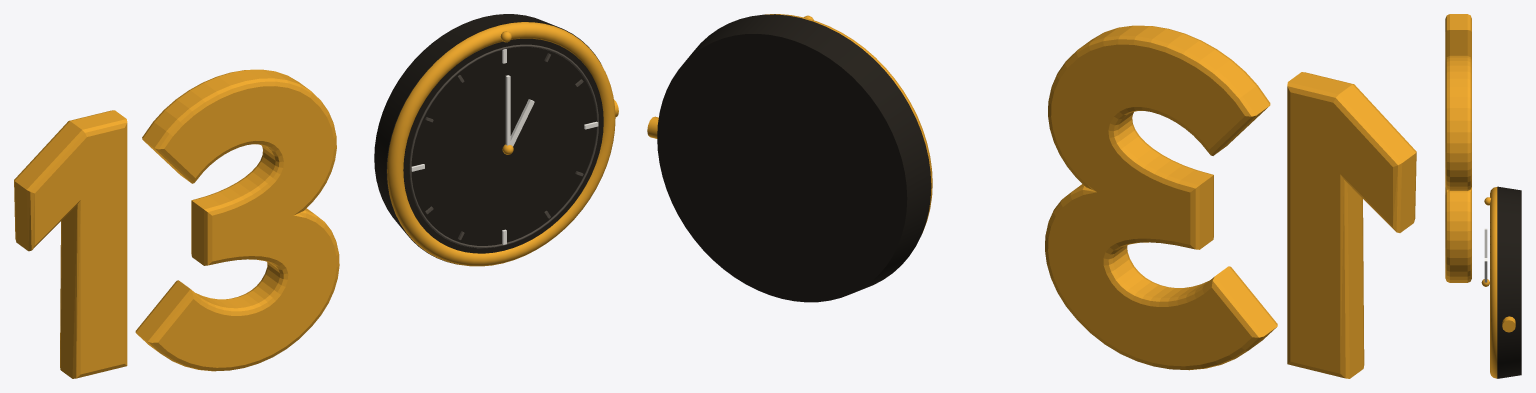
File: orderly-13.glb
3 views of the same model, side by side, from view 1: azimuth 30°, elevation 25°; view 2: azimuth 150°, elevation 25°; view 3: azimuth 270°, elevation 25° (orthographic). The views are drawn at different scales.
Visible parts, largest first — view 1: Raised_number_3, Recessed_dial, Raised_number_1, Amber_bezel, Graphite_case, Inner_etched_ring; view 2: Graphite_case, Raised_number_3, Raised_number_1, Amber_bezel; view 3: Raised_number_3, Graphite_case, Amber_bezel, Raised_number_1, Winding_crown, Minute_hand, Hour_hand_13h.
Part boxes in pixels (bbox=[...]): Raised_number_3: bbox=[135, 69, 339, 371]; Recessed_dial: bbox=[403, 38, 603, 253]; Raised_number_1: bbox=[14, 110, 127, 378]; Amber_bezel: bbox=[387, 22, 615, 266]; Graphite_case: bbox=[374, 14, 600, 264]; Inner_etched_ring: bbox=[409, 44, 598, 248]; Graphite_case: bbox=[657, 14, 931, 302]; Raised_number_3: bbox=[1045, 25, 1277, 370]; Raised_number_1: bbox=[1287, 72, 1416, 378]; Amber_bezel: bbox=[765, 14, 932, 233]; Raised_number_3: bbox=[1445, 55, 1471, 282]; Graphite_case: bbox=[1497, 186, 1521, 378]; Amber_bezel: bbox=[1490, 187, 1497, 378]; Raised_number_1: bbox=[1445, 14, 1471, 59]; Winding_crown: bbox=[1502, 316, 1515, 332]; Minute_hand: bbox=[1484, 228, 1487, 257]; Hour_hand_13h: bbox=[1484, 258, 1487, 282].
Bounding box in the file's own units: 3.01 × 1.31 × 0.431.
